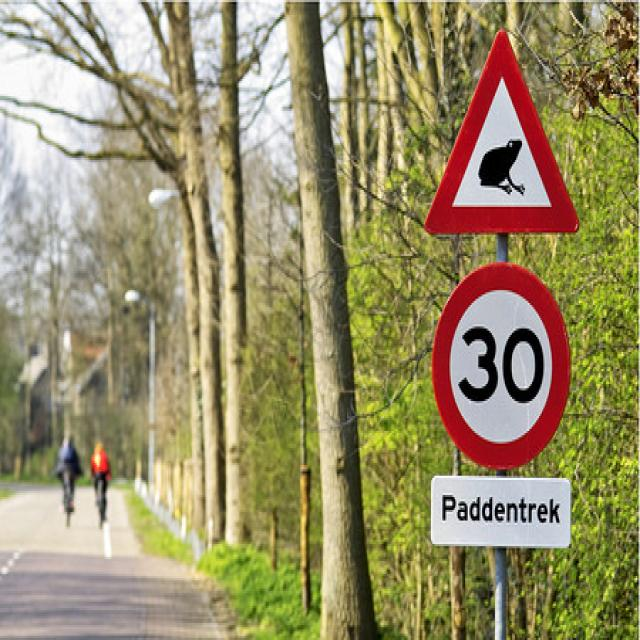speed limit 30: (431, 262, 570, 469)
